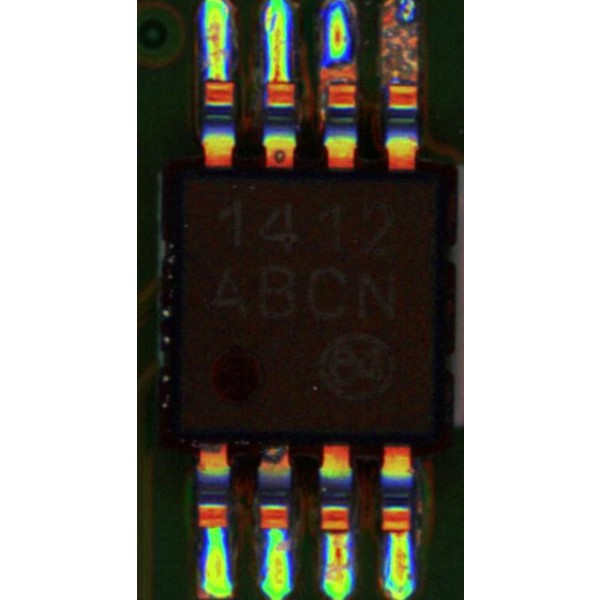Bad_podu: (270, 66, 285, 94), (326, 523, 348, 541), (208, 71, 227, 89), (389, 521, 408, 539)
